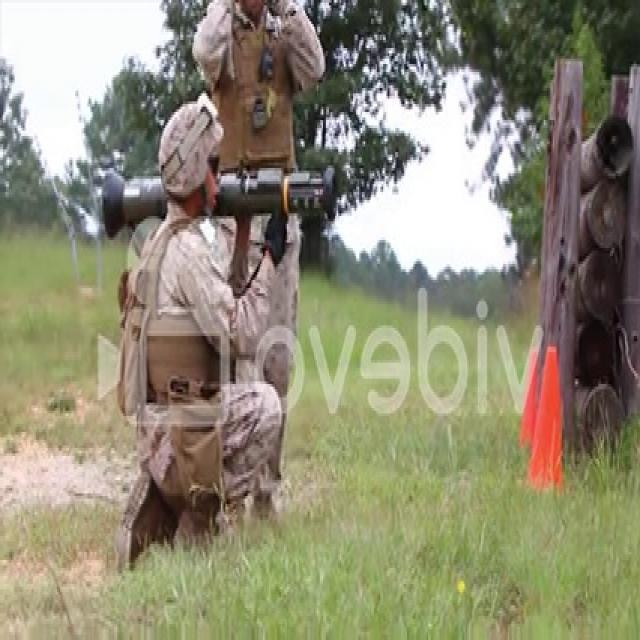rocket: (105, 165, 338, 243)
